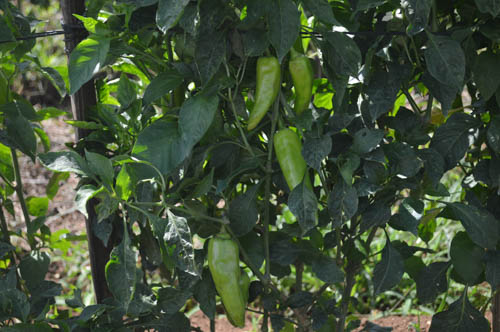ChiliPepper: (203, 233, 251, 326), (271, 131, 317, 213), (242, 54, 283, 133), (291, 54, 317, 118)
